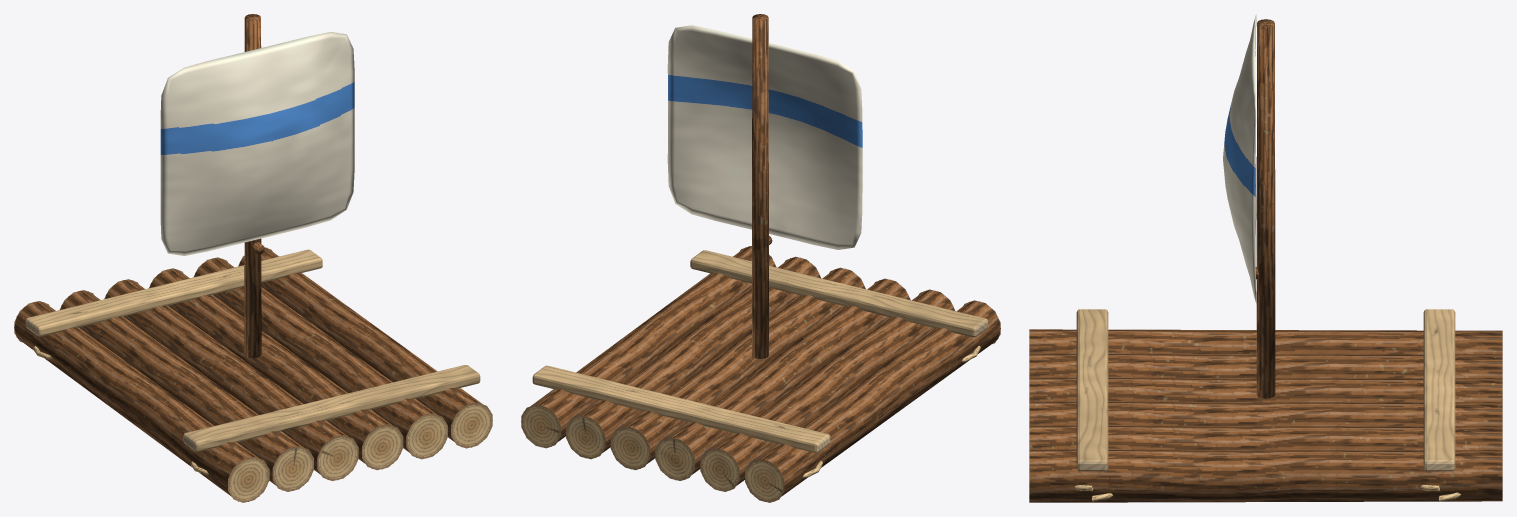
Rendered from raft.glb.
3 renders of one model, left to right at view 1: azimuth 30°, elevation 25°; view 2: azimuth 150°, elevation 25°; view 3: azimuth 270°, elevation 25°, orthographic. The views are drawn at different scales.
Visible parts, largest first — view 1: Raft, Sail; view 2: Raft, Sail; view 3: Raft, Sail.
Part boxes in pixels (x1,y1,x2,y2): Raft: [14, 14, 492, 502]; Sail: [160, 32, 354, 255]; Raft: [521, 14, 1000, 502]; Sail: [667, 25, 862, 249]; Raft: [1029, 19, 1502, 502]; Sail: [1223, 14, 1256, 302].
Size of the model in its own units: 2.3 by 2.92 by 3.
Materials: 1 (1 with a texture image).
